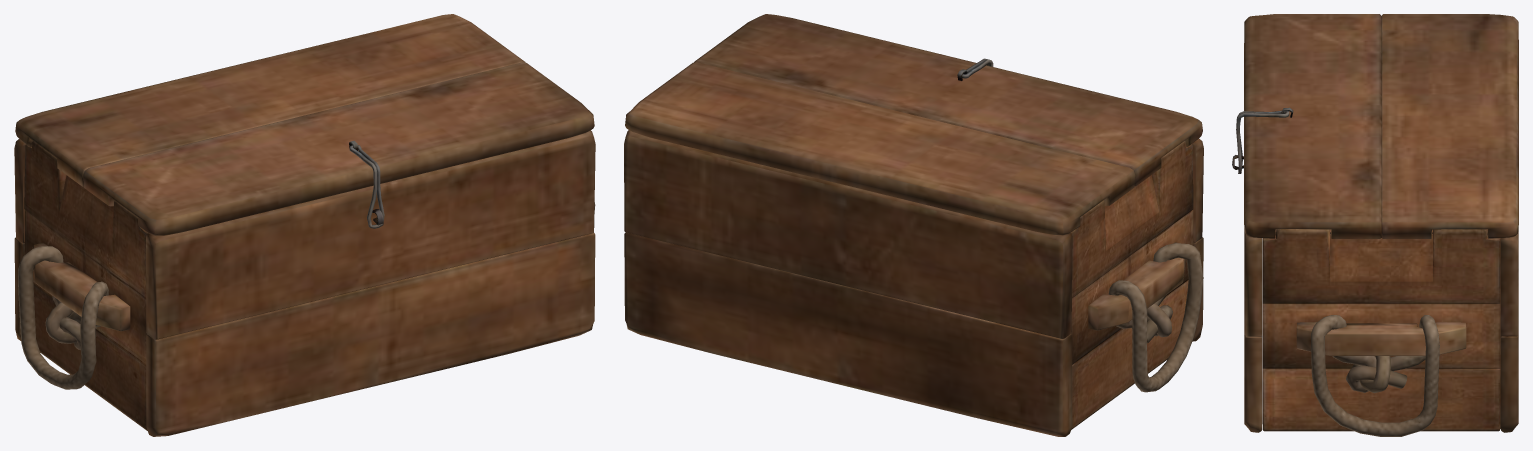
Rendered from wooden_crate_01.glb.
3 renders of one model, left to right at view 1: azimuth 30°, elevation 25°; view 2: azimuth 150°, elevation 25°; view 3: azimuth 270°, elevation 25°, orthographic. The views are drawn at different scales.
Visible parts, largest first — view 1: wooden_crate_01, wooden_crate_01_lid, wooden_crate_01_latch; view 2: wooden_crate_01, wooden_crate_01_lid; view 3: wooden_crate_01_lid, wooden_crate_01, wooden_crate_01_latch.
Boxes of the visible parts, x1=… form: wooden_crate_01: x1=14, y1=130, x2=595, y2=436; wooden_crate_01_lid: x1=15, y1=14, x2=594, y2=236; wooden_crate_01_latch: x1=349, y1=145, x2=384, y2=228; wooden_crate_01: x1=624, y1=130, x2=1203, y2=436; wooden_crate_01_lid: x1=625, y1=14, x2=1202, y2=235; wooden_crate_01_lid: x1=1244, y1=14, x2=1518, y2=238; wooden_crate_01: x1=1232, y1=155, x2=1518, y2=436; wooden_crate_01_latch: x1=1236, y1=110, x2=1289, y2=173.
Size of the model in its own units: 0.8253 by 0.3495 by 0.4085.
Materials: 1 (1 with a texture image).
